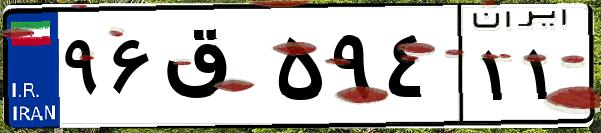1: (475, 38, 525, 113), (525, 38, 570, 115)
4: (385, 28, 445, 110)
5: (270, 28, 330, 110)
6: (110, 28, 158, 98)
9: (330, 28, 385, 110), (57, 26, 110, 100)
ق: (158, 20, 270, 120)
